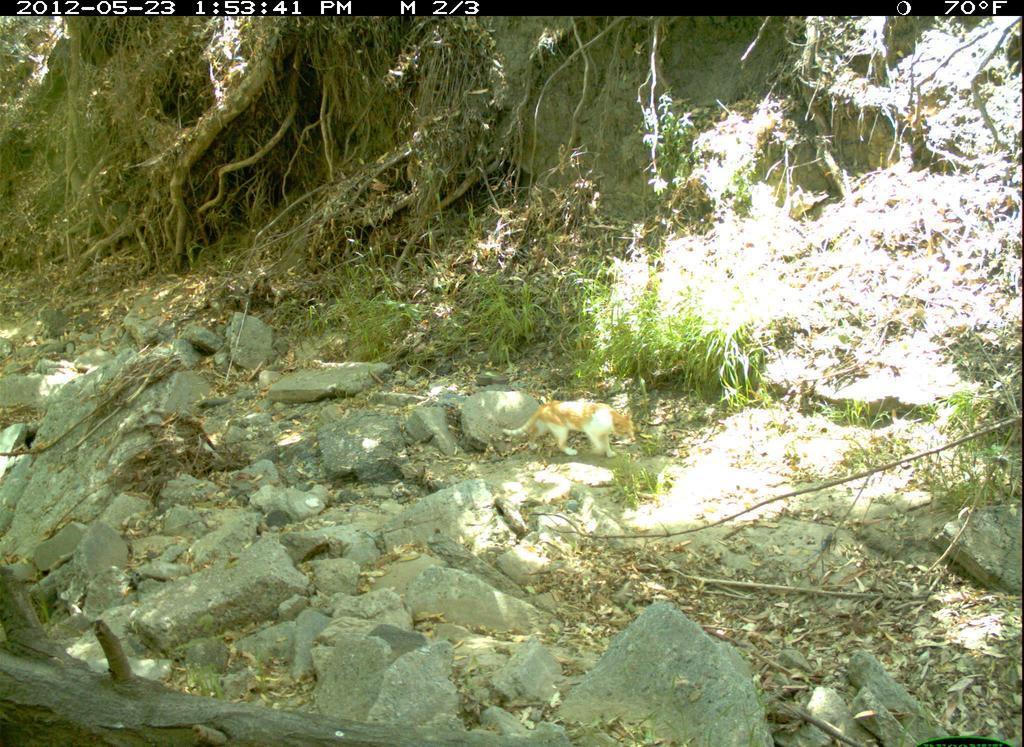cat: (496, 387, 658, 472)
